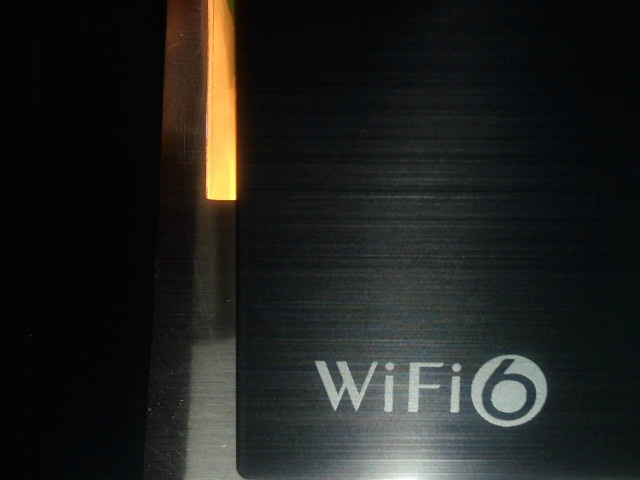AK_ZTEWIFI6Black: (301, 336, 560, 441)
